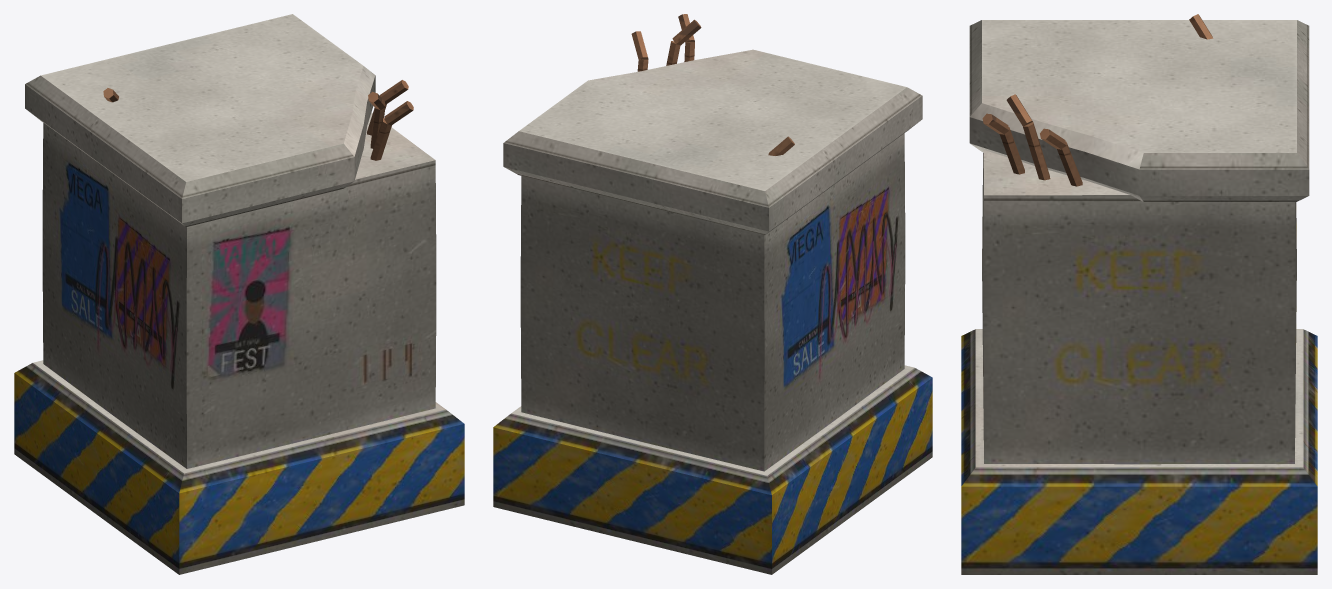
File: prop_pillar_b-LsBWyd_5.glb
The picture shows the model from 3 angles, left to right: view 1: azimuth 30°, elevation 25°; view 2: azimuth 150°, elevation 25°; view 3: azimuth 270°, elevation 25°; orthographic projection. The views are drawn at different scales.
Visible parts, largest first — view 1: prop_pillar_b_body; view 2: prop_pillar_b_body; view 3: prop_pillar_b_body.
Part boxes in pixels (x1,y1,x2,y2): prop_pillar_b_body: (14,14,464,574); prop_pillar_b_body: (493,14,932,574); prop_pillar_b_body: (961,14,1317,574).
Size of the model in its own units: 0.86 by 1.19 by 0.86.
1 material, 1 textured.
